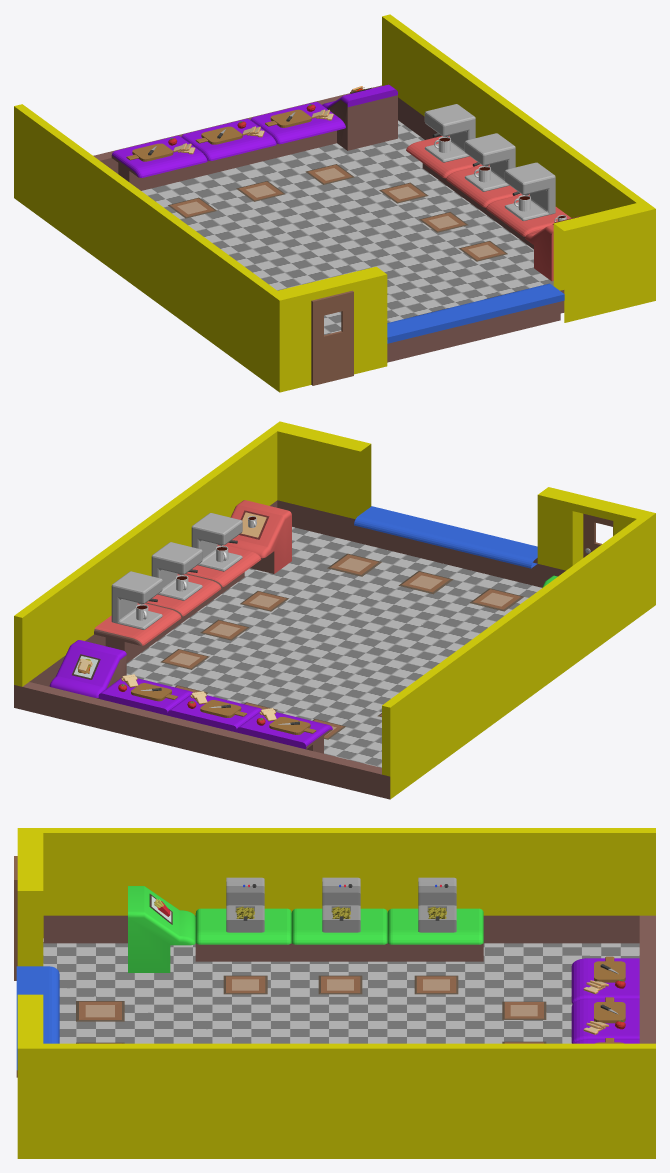
The model's file is restaurant.fbx.
3 renders of one model, top to bottom at view 1: azimuth 30°, elevation 25°; view 2: azimuth 150°, elevation 25°; view 3: azimuth 270°, elevation 25°, orthographic. The views are drawn at different scales.
Parts seen in each view (by area): view 1: zemin, wall4, wall1, wall3, tezgah, wall5, wall6, SandwichStand, Door, SandwichTable3, SandwichTable2, SandwichTable1 (+18 smaller); view 2: zemin, wall4, wall1, wall2, wall3, tezgah, wall6, CoffeeStand, SandwichStand, CoffeeMachine3, CoffeeMachine1, CoffeeMachine2 (+19 smaller); view 3: wall1, wall4, zemin, PotatoTable1, PotatoTable2, PotatoTable3, PotetoesStand, wall6, tezgah, wall2, PotatoFritos1, PotatoFritos2 (+14 smaller).
Part boxes in pixels (x1,y1,x2,y2): zemin: [141, 120, 553, 334]; wall4: [14, 104, 276, 384]; wall1: [382, 14, 655, 302]; wall3: [553, 203, 647, 322]; tezgah: [387, 283, 564, 362]; wall5: [269, 285, 311, 392]; wall6: [342, 266, 387, 374]; SandwichStand: [322, 84, 397, 150]; Door: [311, 290, 353, 385]; SandwichTable3: [111, 135, 207, 190]; SandwichTable2: [181, 118, 276, 176]; SandwichTable1: [250, 102, 345, 159]; zemin: [126, 527, 541, 767]; wall4: [382, 519, 645, 799]; wall1: [14, 421, 287, 709]; wall2: [22, 682, 390, 799]; wall3: [277, 423, 371, 543]; tezgah: [354, 506, 537, 586]; wall6: [537, 487, 583, 587]; CoffeeStand: [225, 500, 291, 573]; SandwichStand: [49, 640, 126, 698]; CoffeeMachine3: [111, 571, 162, 629]; CoffeeMachine1: [191, 513, 242, 571]; CoffeeMachine2: [151, 542, 202, 600]; wall1: [17, 1043, 655, 1158]; wall4: [43, 828, 655, 943]; zemin: [43, 942, 639, 1043]; PotatoTable1: [195, 908, 291, 961]; PotatoTable2: [291, 908, 387, 961]; PotatoTable3: [387, 908, 483, 961]; PotetoesStand: [128, 886, 195, 972]; wall6: [17, 870, 43, 966]; tezgah: [16, 966, 59, 1077]; wall2: [639, 915, 655, 1043]; PotatoFritos1: [226, 877, 264, 932]; PotatoFritos2: [322, 877, 360, 932].
Bounding box in the file's own units: 1285 × 301 × 1581.
